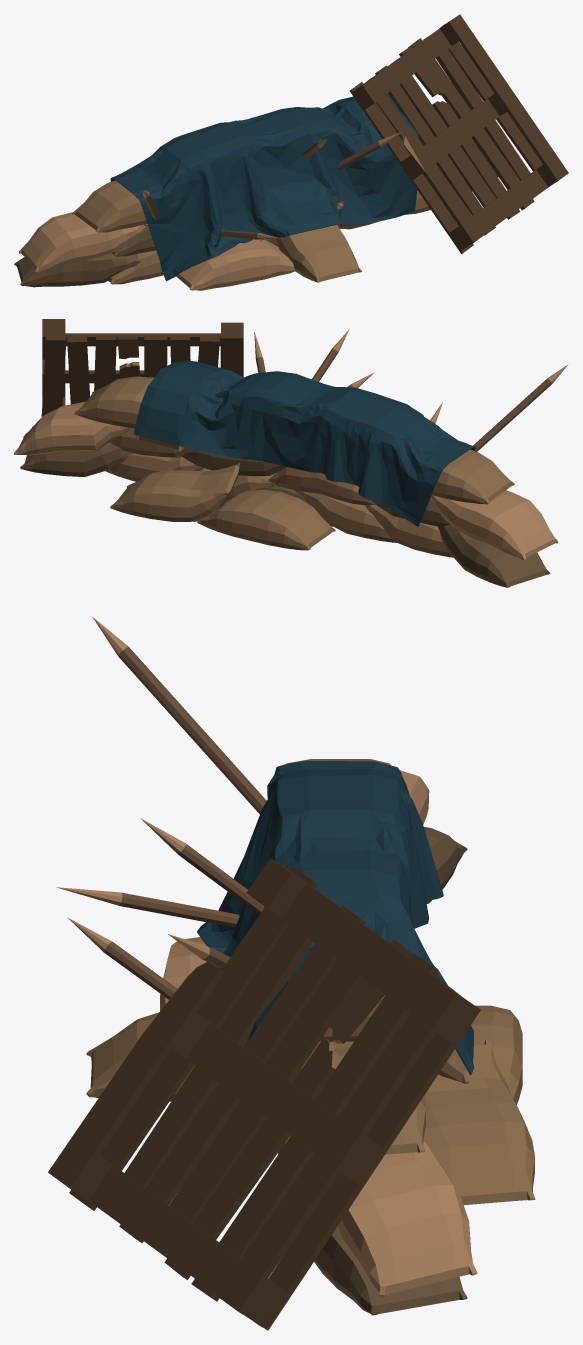
Rendered from SM_Barricades_01.glb.
The picture shows the model from 3 angles, top to bottom: view 1: azimuth 30°, elevation 25°; view 2: azimuth 150°, elevation 25°; view 3: azimuth 270°, elevation 25°; orthographic projection. The views are drawn at different scales.
Visible parts, largest first — view 1: SM_Barricades_01; view 2: SM_Barricades_01; view 3: SM_Barricades_01.
Boxes of the visible parts, <box> form: SM_Barricades_01: <box>14,14,568,290</box>; SM_Barricades_01: <box>14,319,568,587</box>; SM_Barricades_01: <box>48,616,535,1330</box>.
Size of the model in its own units: 3.06 by 0.8431 by 1.25.
1 material, 1 textured.
